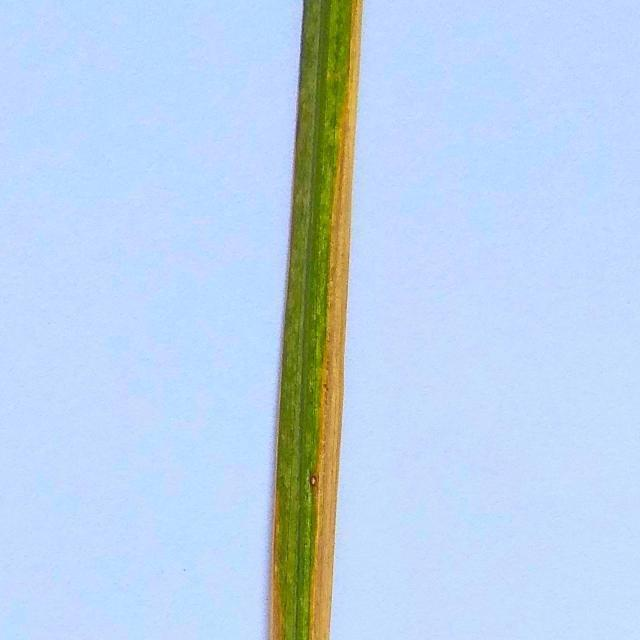Leaf_Blast: (299, 463, 328, 499)
